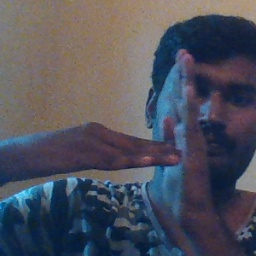Z: (75, 44, 213, 215)
